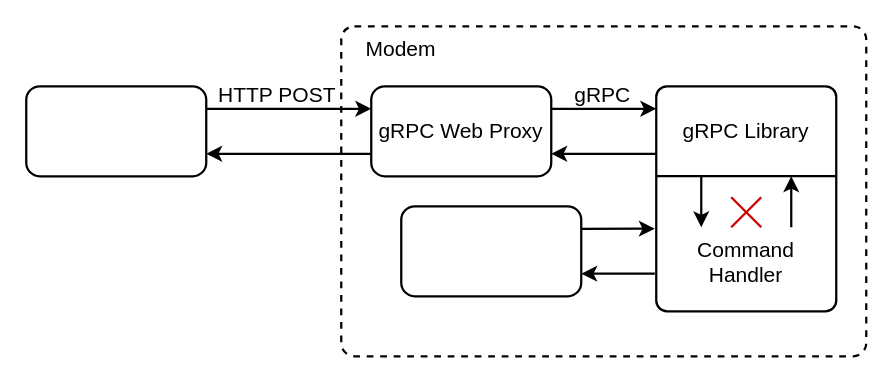
This 894x384 diagram has some shape labels left out. The centre of each missing label's shape, as x and y in pixels:
Local PC (my.starlink.com): (x=115, y=130)
Modem Functionality: (x=490, y=250)
